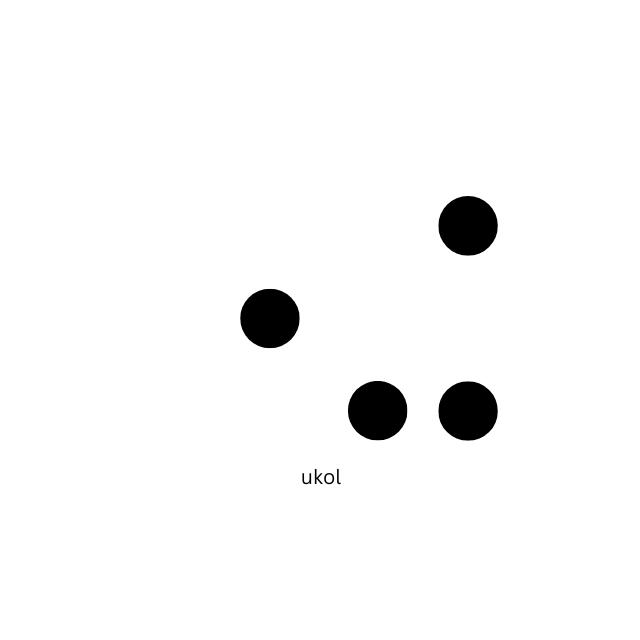dot_5: (151, 191, 300, 440)
two_cell_non_alphabet_ukol: (348, 193, 499, 441)
